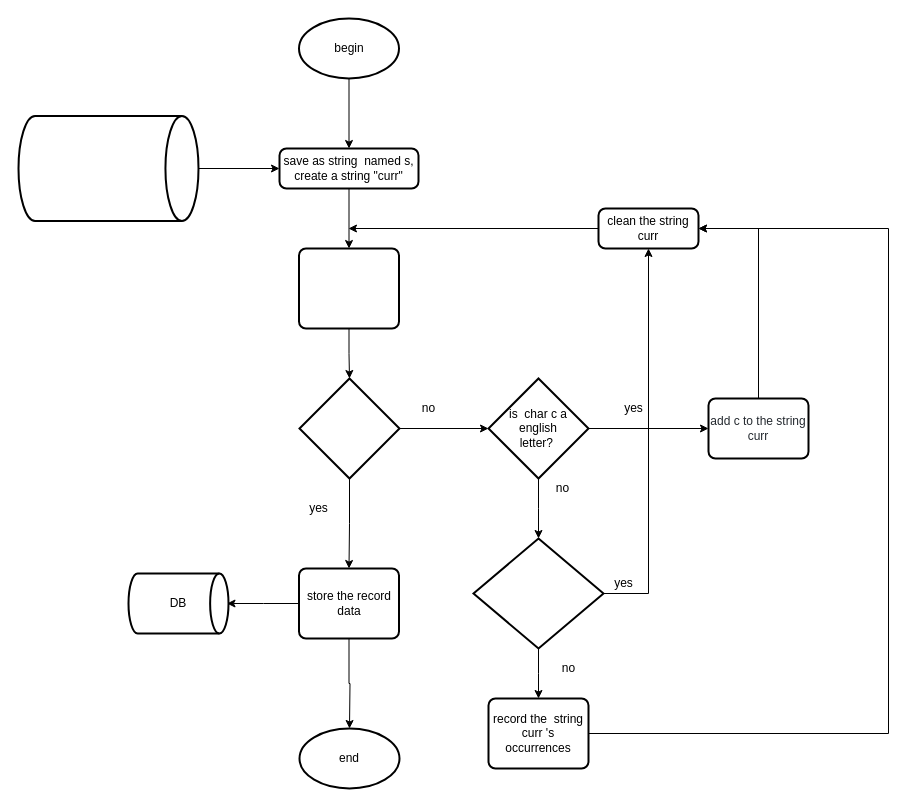
This 914x806 diagram has some shape labels left out. The centre of each missing label's shape, as x and y in pixels:
"English article catched by web clawer && input the block word list" goes at (108,168).
"is the string curr in the block word list?" goes at (538,593).
"traversal finished?" goes at (349,428).
"traversal the string (char c:string s)" goes at (349,288).
